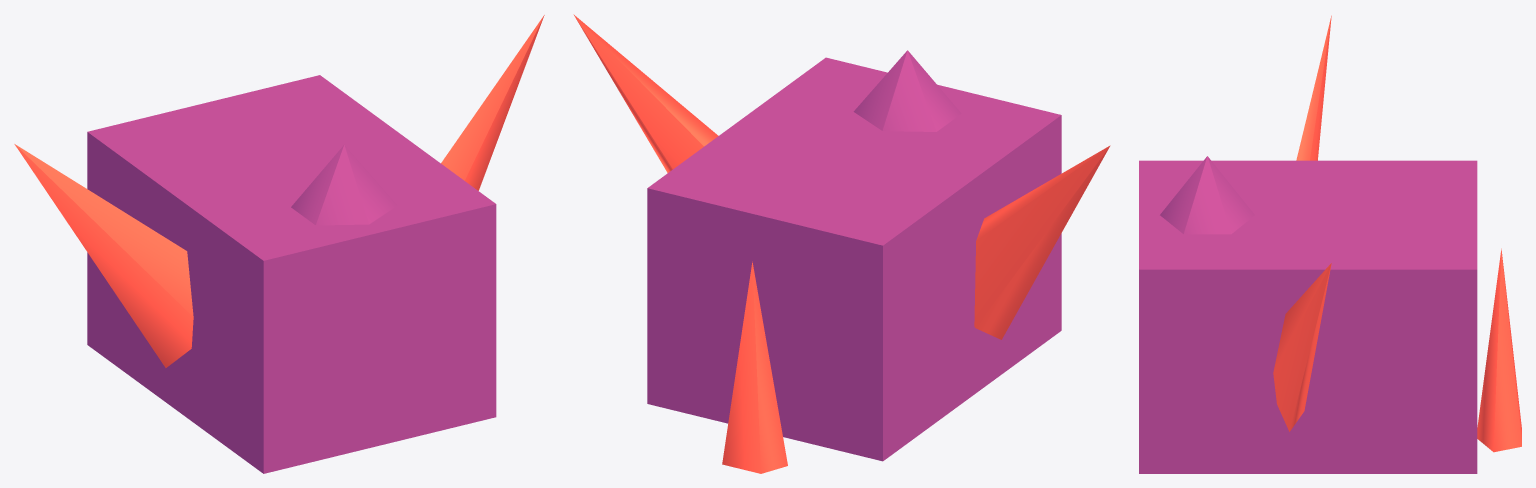
The model's file is qiongqi.glb.
3 views of the same model, side by side, from view 1: azimuth 30°, elevation 25°; view 2: azimuth 150°, elevation 25°; view 3: azimuth 270°, elevation 25° (orthographic). The views are drawn at different scales.
Visible parts, largest first — view 1: body, wing_l, head, wing_r; view 2: body, wing_l, tail_blade, wing_r, head; view 3: body, tail_blade, wing_r, head, wing_l.
Boxes of the visible parts, x1=… form: body: x1=87, y1=75, x2=496, y2=473; wing_l: x1=14, y1=144, x2=193, y2=367; head: x1=291, y1=144, x2=397, y2=225; wing_r: x1=441, y1=15, x2=544, y2=190; body: x1=647, y1=57, x2=1061, y2=461; wing_l: x1=974, y1=145, x2=1110, y2=339; tail_blade: x1=722, y1=261, x2=787, y2=473; wing_r: x1=573, y1=14, x2=718, y2=172; head: x1=853, y1=50, x2=961, y2=131; body: x1=1139, y1=160, x2=1477, y2=473; tail_blade: x1=1477, y1=248, x2=1521, y2=452; wing_r: x1=1273, y1=263, x2=1331, y2=431; head: x1=1160, y1=156, x2=1254, y2=234; wing_l: x1=1296, y1=15, x2=1331, y2=160.
Size of the model in its own units: 7.3 by 4.1 by 4.75.
